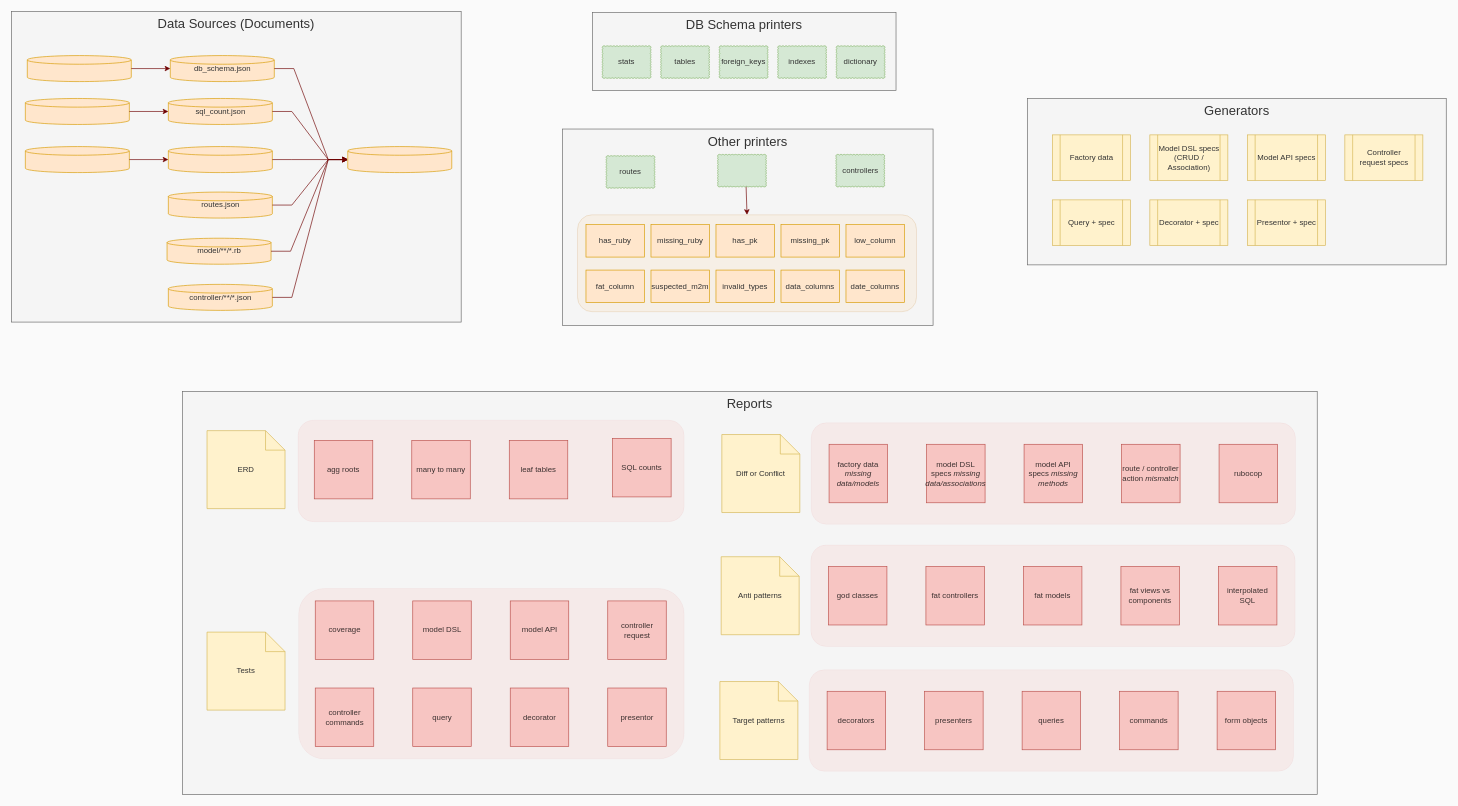
Image size: 1458x806. Some labels were removed from this diagram. Each missing label, with the centre of its shape:
domain_model.json: point 399,159
models: point 741,170
rubocop (rake/.txt): point 77,159
rubocop.json: point 220,159
schema.rb: point 79,68
sql_count (rake/api): point 77,111
